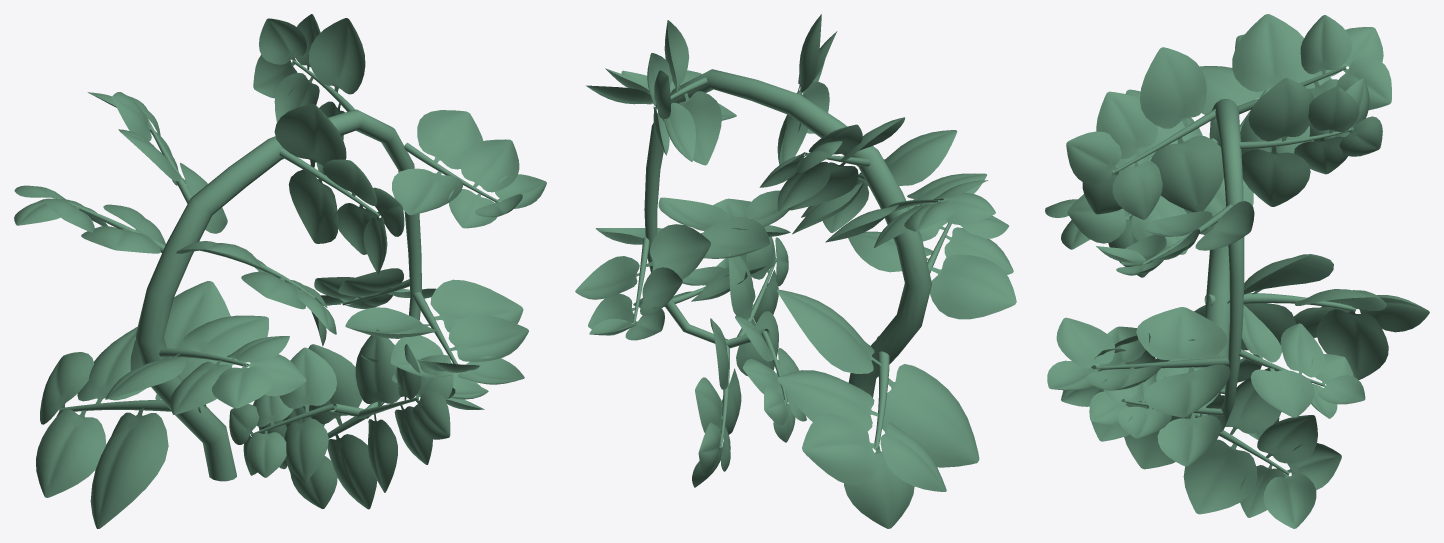
Rendered from plantlimp.fbx.
3 renders of one model, left to right at view 1: azimuth 30°, elevation 25°; view 2: azimuth 150°, elevation 25°; view 3: azimuth 270°, elevation 25°, orthographic. The views are drawn at different scales.
Visible parts, largest first — view 1: Vert.055; view 2: Vert.055; view 3: Vert.055.
Boxes of the visible parts, x1,y1,x2,y2 form: Vert.055: (14,14,546,528); Vert.055: (575,14,1016,528); Vert.055: (1045,14,1429,528).
Size of the model in its own units: 131 by 129 by 96.03.
